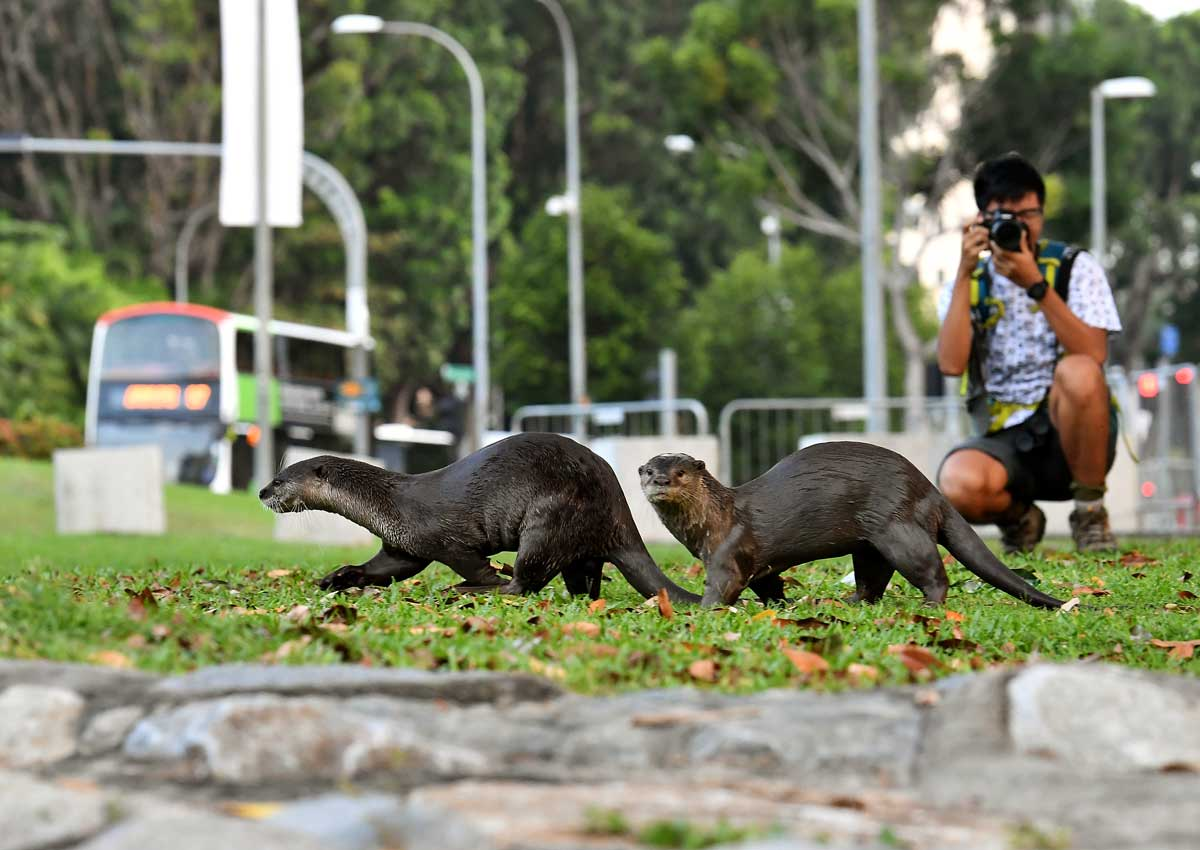otter: (252, 422, 708, 607), (630, 436, 1077, 615)
